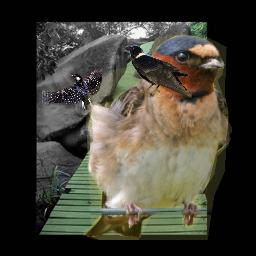Crow: (124, 44, 192, 98)
Swallow: (83, 35, 233, 240)
Woodpecker: (42, 66, 102, 110)
